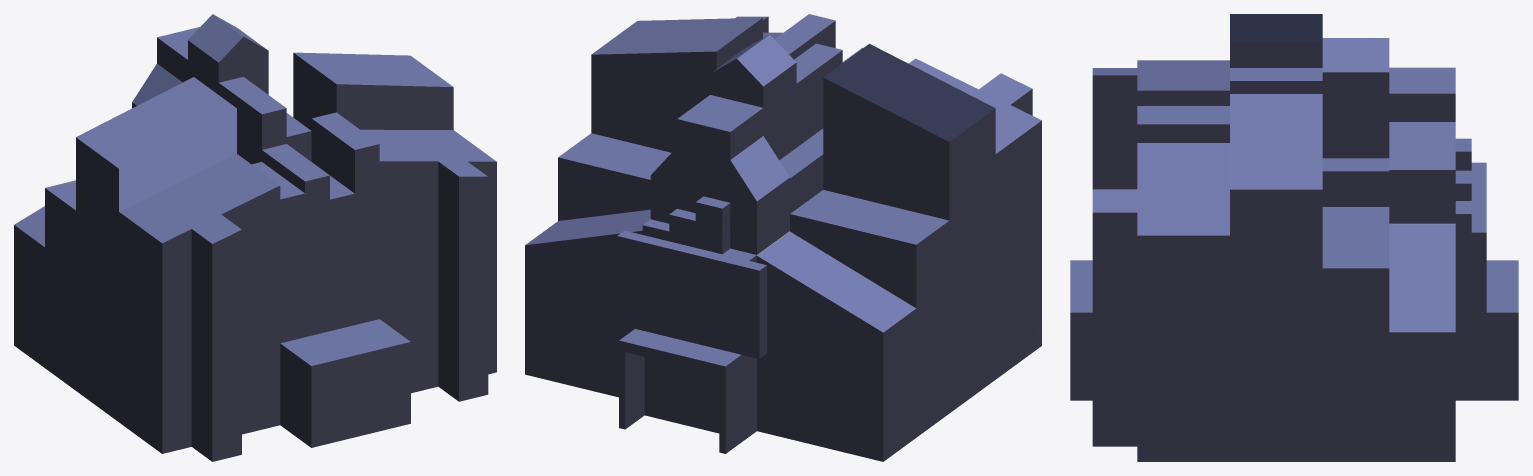
File: _cinema.glb
3 views of the same model, side by side, from view 1: azimuth 30°, elevation 25°; view 2: azimuth 150°, elevation 25°; view 3: azimuth 270°, elevation 25° (orthographic). The views are drawn at different scales.
Visible parts, largest first — view 1: Cube.004; view 2: Cube.004; view 3: Cube.004.
Boxes of the visible parts, x1,y1,x2,y2 form: Cube.004: (14,14,496,461); Cube.004: (525,14,1041,461); Cube.004: (1070,14,1518,461).
Bounding box in the file's own units: 1.73 × 1.54 × 1.86.
